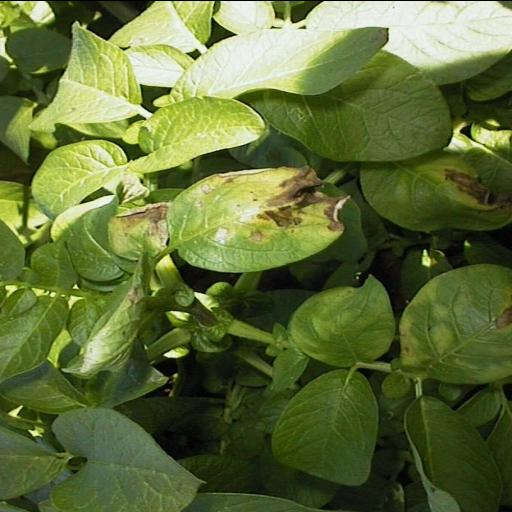disease_tomato: (164, 166, 354, 274), (354, 141, 512, 239), (396, 260, 512, 387), (104, 192, 178, 266)
